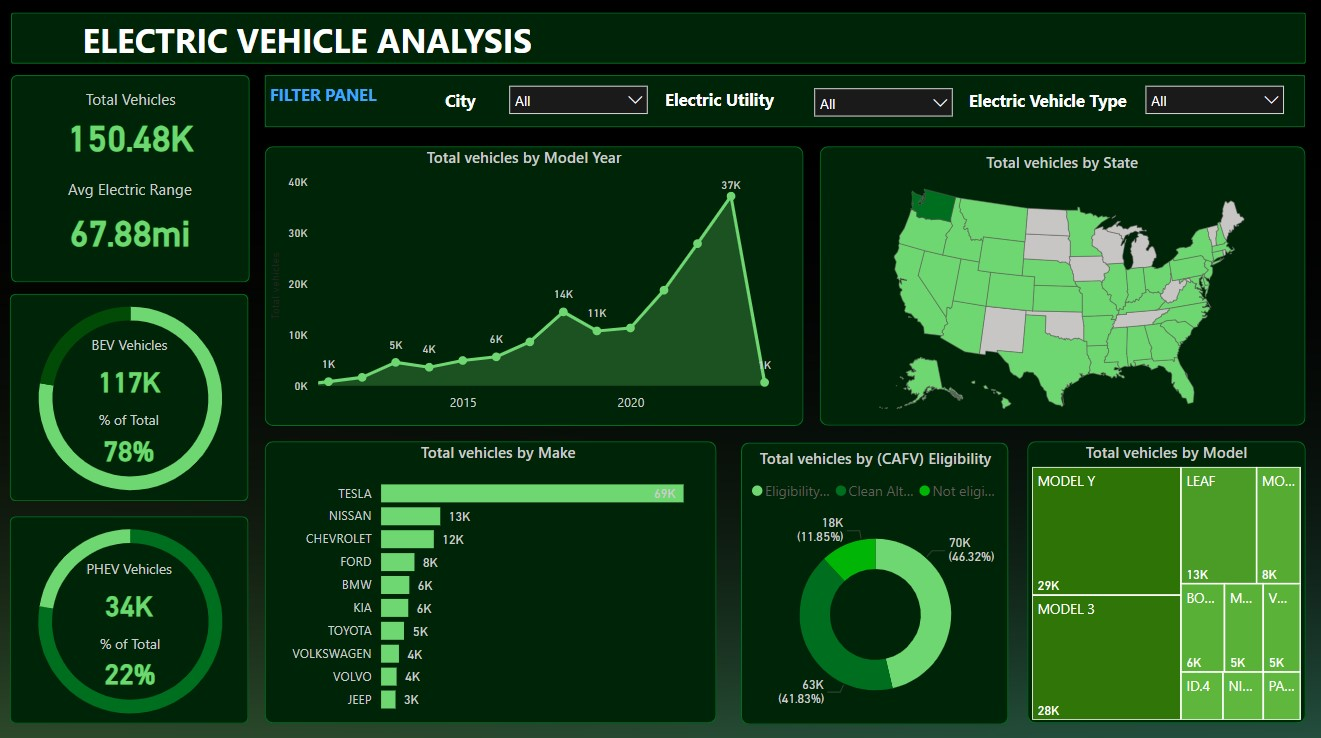

The dashboard page shown, as its layout file describes it:
{"tool":"powerbi","page":{"name":"Page 1","canvas":[1280,720],"ordinal":0},"visuals":[{"type":"shape","box":[14.5,12.1,1249.9,49.5],"z":0},{"type":"textbox","box":[77.9,11.5,464.6,60.6],"z":1000},{"type":"shape","box":[14.5,72.4,230.4,200.3],"z":2000},{"type":"card","title":"Total Vehicles","fields":{"Values":["Electric_Vehicle_Population_Data.Total vehicles"]},"box":[44.1,85.3,170.7,71.1],"z":3000},{"type":"card","title":"Avg Electric Range","fields":{"Values":["Electric_Vehicle_Population_Data.Avg range"]},"box":[14.2,172.6,229.6,80.1],"z":4000},{"type":"shape","box":[13.3,283.5,230.4,200.3],"z":5000},{"type":"shape","box":[13.3,498.3,230.4,200.3],"z":6000},{"type":"donutChart","fields":{"Y":["Electric_Vehicle_Population_Data.Total vehicles"],"Category":["Electric_Vehicle_Population_Data.Electric Vehicle Type"]},"box":[0,268.7,259.8,231.4],"z":7000},{"type":"card","title":"BEV Vehicles","fields":{"Values":["Electric_Vehicle_Population_Data.BEV vehicles"]},"box":[65.9,323.9,124.6,71.2],"z":8000},{"type":"card","title":"% of Total","fields":{"Values":["Electric_Vehicle_Population_Data.% of BEV"]},"box":[77.9,395.3,99.6,59.2],"z":9000},{"type":"donutChart","fields":{"Y":["Electric_Vehicle_Population_Data.Total vehicles"],"Category":["Electric_Vehicle_Population_Data.Electric Vehicle Type"]},"box":[0,483.3,259.7,232.3],"z":10000},{"type":"card","title":"PHEV Vehicles","fields":{"Values":["Electric_Vehicle_Population_Data.PHEV vehicles"]},"box":[66.4,539.6,124.1,72.1],"z":11000},{"type":"card","title":"% of Total","fields":{"Values":["Electric_Vehicle_Population_Data.% of PHEV"]},"box":[79.4,611.7,99.6,59.2],"z":12000},{"type":"shape","box":[259.7,141.4,520,270],"z":13000},{"type":"shape","box":[259.7,72.1,1004.2,50.5],"z":14000},{"type":"areaChart","fields":{"Category":["Electric_Vehicle_Population_Data.Model Year"],"Y":["Electric_Vehicle_Population_Data.Total vehicles"]},"box":[259.7,141.4,500.6,265.5],"z":15000},{"type":"shape","box":[795,141.4,468.9,269.8],"z":16000},{"type":"shapeMap","fields":{"Category":["Electric_Vehicle_Population_Data.State"],"Value":["Electric_Vehicle_Population_Data.Total vehicles"]},"box":[805.1,145.7,448.7,265.5],"z":17000},{"type":"shape","box":[259.8,425.4,436,272.3],"z":17001},{"type":"barChart","fields":{"Category":["Electric_Vehicle_Population_Data.Make"],"Y":["Electric_Vehicle_Population_Data.Total vehicles"]},"box":[274.1,425.4,421.8,272.3],"z":17002},{"type":"shape","box":[719,427.1,258.1,272.3],"z":17003},{"type":"donutChart","title":"Total vehicles by (CAFV) Eligibility","fields":{"Category":["Electric_Vehicle_Population_Data.Clean Alternative Fuel Vehicle (CAFV) Eligibility"],"Y":["Electric_Vehicle_Population_Data.Total vehicles"]},"box":[719,432.5,259.8,272.3],"z":17004},{"type":"shape","box":[994.9,425.4,268.7,272.3],"z":17005},{"type":"treemap","fields":{"Group":["Electric_Vehicle_Population_Data.Model"],"Values":["Electric_Vehicle_Population_Data.Total vehicles"]},"box":[994.9,425.4,268.7,274.1],"z":17006},{"type":"textbox","box":[259.7,75,168.8,47.6],"z":17007},{"type":"slicer","fields":{"Values":["Electric_Vehicle_Population_Data.City"]},"box":[484.8,72.1,154.4,41.8],"z":17008},{"type":"textbox","box":[428.5,80.8,56.3,41.8],"z":17009},{"type":"textbox","box":[640.6,79.4,131.3,39],"z":17010},{"type":"slicer","fields":{"Values":["Electric_Vehicle_Population_Data.Electric Utility"]},"box":[779.1,75,154.4,41.8],"z":17011},{"type":"slicer","fields":{"Values":["Electric_Vehicle_Population_Data.Electric Vehicle Type"]},"box":[1099.4,72.1,154.4,41.8],"z":17012},{"type":"textbox","box":[933.5,80.8,209.2,39],"z":17013}]}

Visuals, with their boxes in screenshot pixels (x1, y1, x2, y2), scaled from the page's 1280x720 canvas onto the 1321x738 screenshot:
shape: bbox(15, 12, 1305, 63)
textbox: bbox(80, 12, 560, 74)
shape: bbox(15, 74, 253, 280)
"Total Vehicles" card: bbox(46, 87, 222, 160)
"Avg Electric Range" card: bbox(15, 177, 252, 259)
shape: bbox(14, 291, 252, 496)
shape: bbox(14, 511, 252, 716)
donutChart - Electric_Vehicle_Population_Data.Total vehicles x Electric_Vehicle_Population_Data.Electric Vehicle Type: bbox(0, 275, 268, 513)
"BEV Vehicles" card: bbox(68, 332, 197, 405)
"% of Total" card: bbox(80, 405, 183, 466)
donutChart - Electric_Vehicle_Population_Data.Total vehicles x Electric_Vehicle_Population_Data.Electric Vehicle Type: bbox(0, 495, 268, 733)
"PHEV Vehicles" card: bbox(69, 553, 197, 627)
"% of Total" card: bbox(82, 627, 185, 688)
shape: bbox(268, 145, 805, 422)
shape: bbox(268, 74, 1304, 126)
areaChart - Electric_Vehicle_Population_Data.Model Year x Electric_Vehicle_Population_Data.Total vehicles: bbox(268, 145, 785, 417)
shape: bbox(820, 145, 1304, 421)
shapeMap - Electric_Vehicle_Population_Data.State x Electric_Vehicle_Population_Data.Total vehicles: bbox(831, 149, 1294, 421)
shape: bbox(268, 436, 718, 715)
barChart - Electric_Vehicle_Population_Data.Make x Electric_Vehicle_Population_Data.Total vehicles: bbox(283, 436, 718, 715)
shape: bbox(742, 438, 1008, 717)
"Total vehicles by (CAFV) Eligibility" donutChart: bbox(742, 443, 1010, 722)
shape: bbox(1027, 436, 1304, 715)
treemap - Electric_Vehicle_Population_Data.Model x Electric_Vehicle_Population_Data.Total vehicles: bbox(1027, 436, 1304, 717)
textbox: bbox(268, 77, 442, 126)
slicer - Electric_Vehicle_Population_Data.City: bbox(500, 74, 660, 117)
textbox: bbox(442, 83, 500, 126)
textbox: bbox(661, 81, 797, 121)
slicer - Electric_Vehicle_Population_Data.Electric Utility: bbox(804, 77, 963, 120)
slicer - Electric_Vehicle_Population_Data.Electric Vehicle Type: bbox(1135, 74, 1294, 117)
textbox: bbox(963, 83, 1179, 123)
